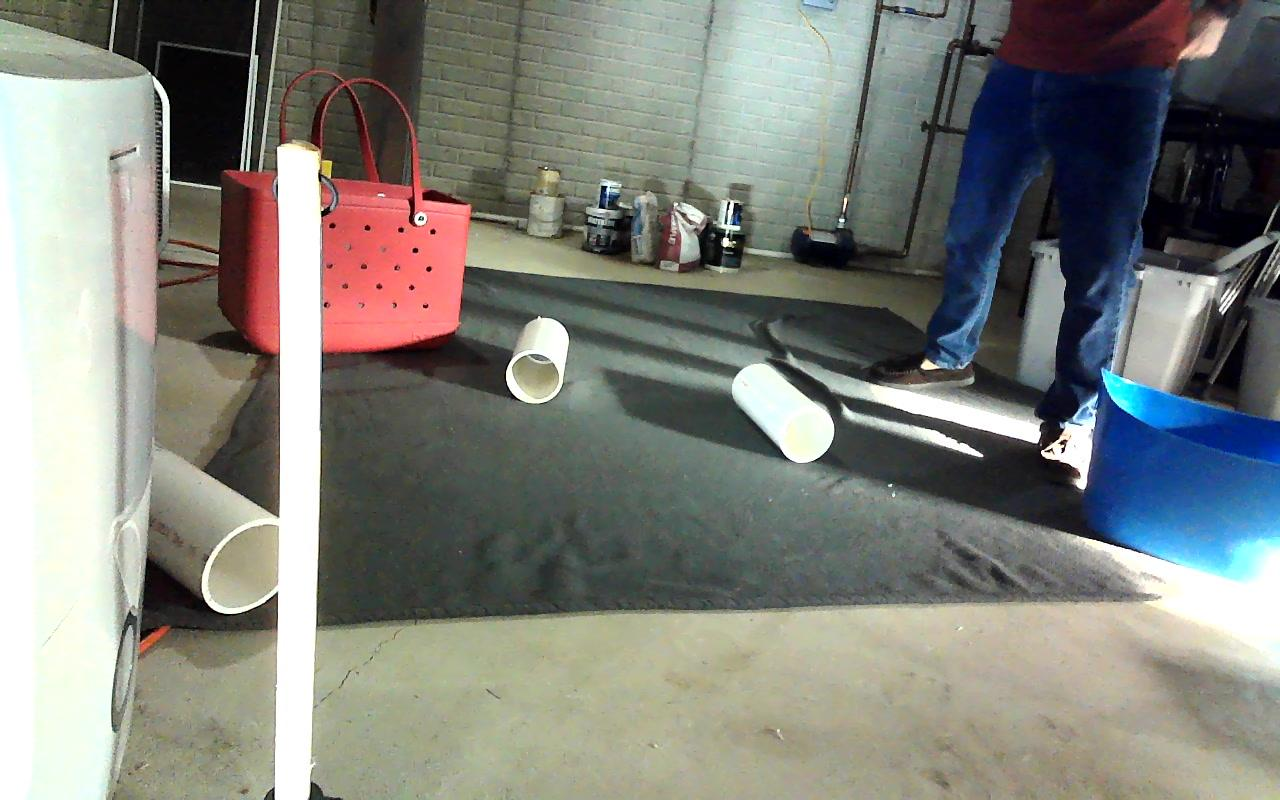coral: (147, 436, 280, 612), (731, 361, 833, 462), (505, 318, 568, 403)
